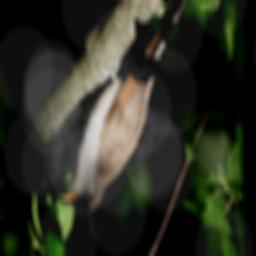Cuckoo: (58, 0, 203, 217)
